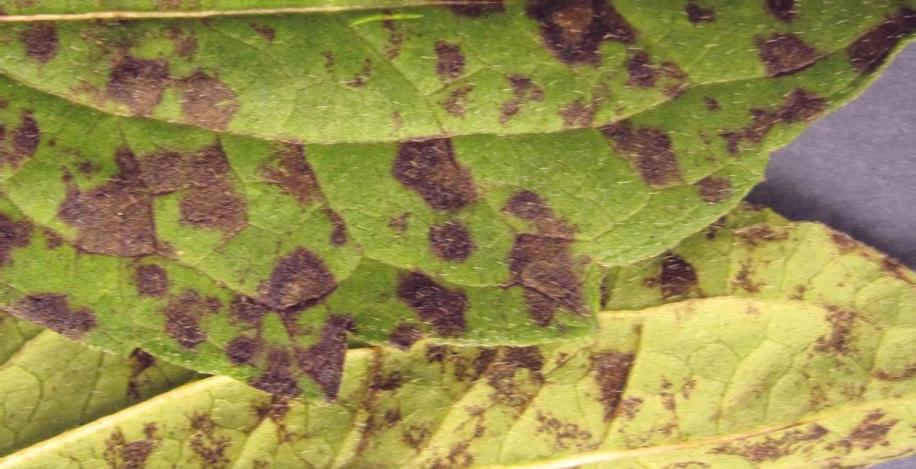Tomato Septoria leaf spot: (0, 0, 916, 379), (0, 187, 916, 469)
